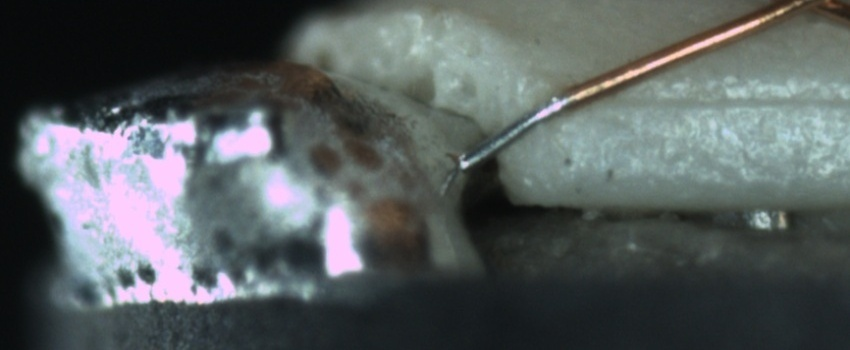CL: (763, 0, 847, 21)
DL: (571, 72, 850, 136)
TS: (458, 93, 571, 173)
TTCW: (463, 82, 592, 168)
